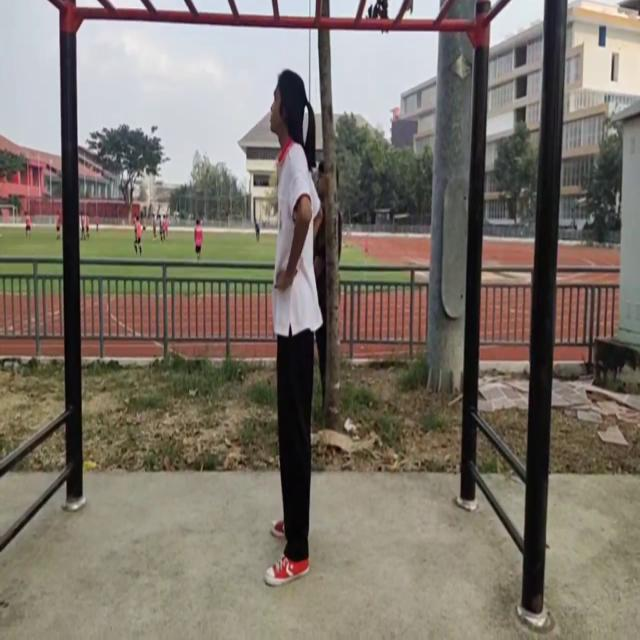stand: (265, 71, 326, 585)
